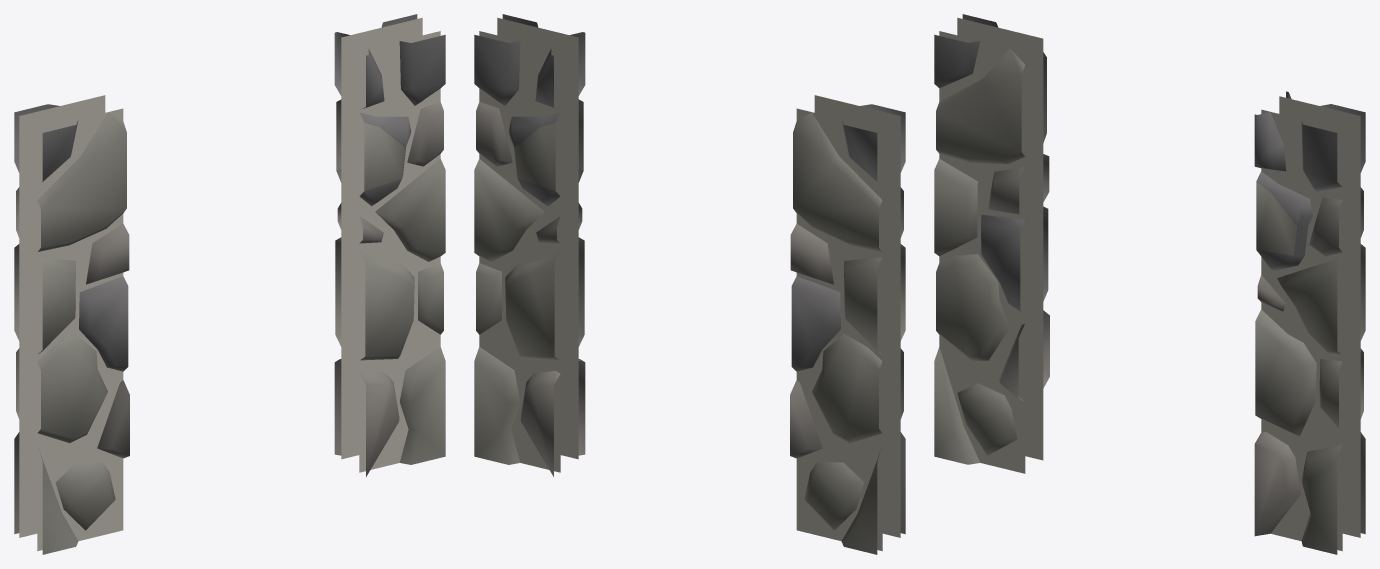
The model's file is rpgpp_ag_wall_04_3x3_door_a.fbx.
3 views of the same model, side by side, from view 1: azimuth 30°, elevation 25°; view 2: azimuth 150°, elevation 25°; view 3: azimuth 330°, elevation 25° (orthographic).
Parts seen in each view (by area): view 1: rpgpp_ag_wall_04_3x3_door_a; view 2: rpgpp_ag_wall_04_3x3_door_a; view 3: rpgpp_ag_wall_04_3x3_door_a.
Part boxes in pixels (x1,y1,x2,y2): rpgpp_ag_wall_04_3x3_door_a: (14,14,445,554); rpgpp_ag_wall_04_3x3_door_a: (474,14,905,554); rpgpp_ag_wall_04_3x3_door_a: (934,14,1365,554).
Bounding box in the file's own units: 3 × 3 × 0.404.
